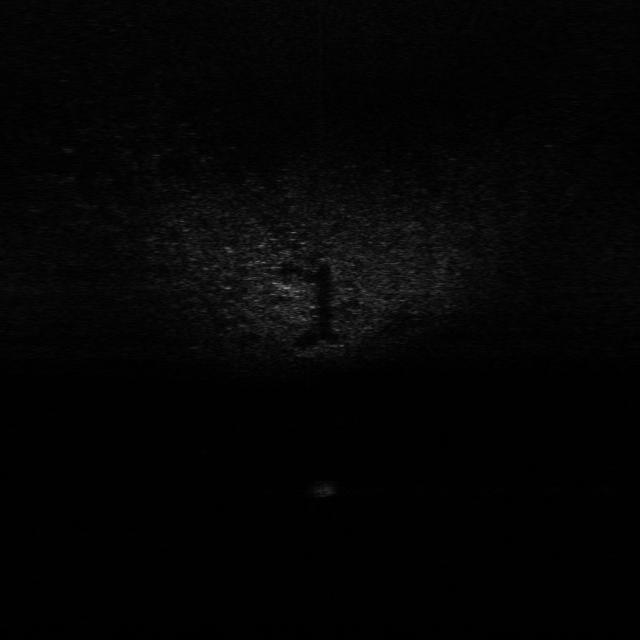cylinder: (307, 474, 339, 500)
